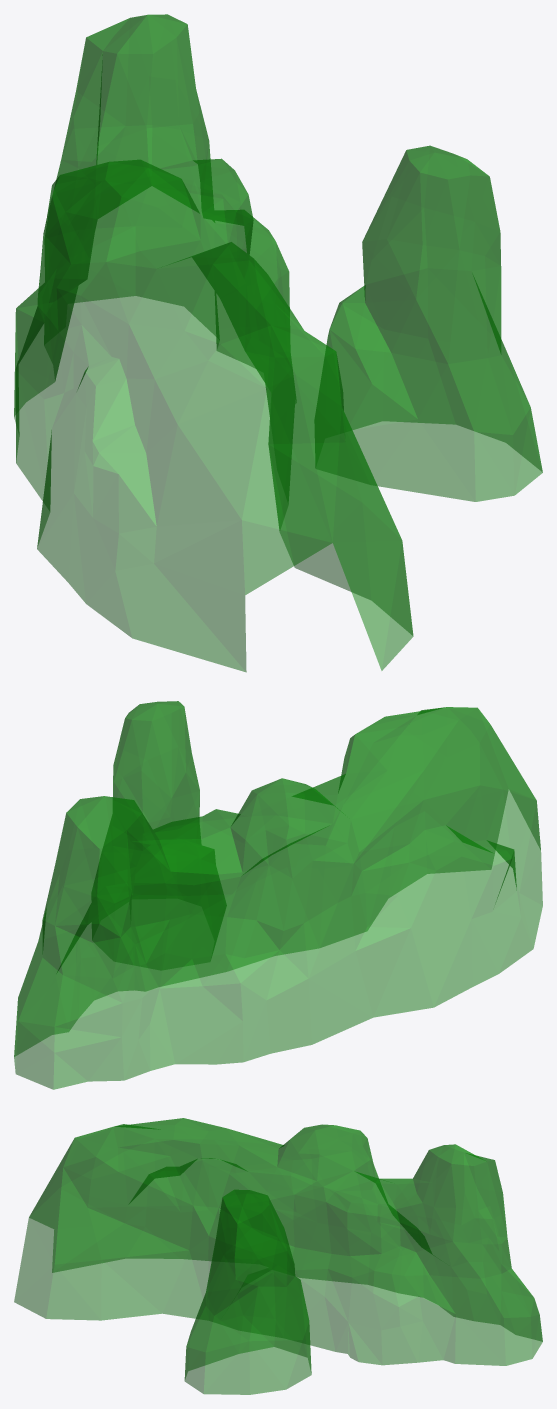
File: C_wall_mt.obj
3 views of the same model, one above another, from view 1: azimuth 30°, elevation 25°; view 2: azimuth 150°, elevation 25°; view 3: azimuth 270°, elevation 25° (orthographic). The views are drawn at different scales.
Bounding box in the file's own units: 195 × 132 × 317.
